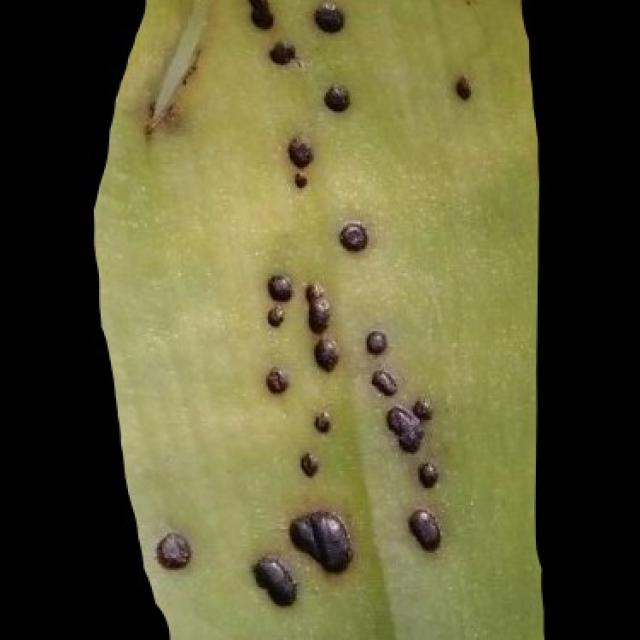mite: (237, 0, 452, 609), (150, 502, 445, 601), (384, 403, 423, 452), (316, 75, 357, 118), (406, 507, 440, 550), (312, 0, 343, 32), (285, 135, 312, 169), (338, 220, 367, 251), (321, 82, 350, 111), (266, 271, 292, 300), (263, 364, 288, 394), (268, 38, 295, 65), (416, 459, 439, 486), (297, 449, 319, 476), (364, 328, 387, 353)
